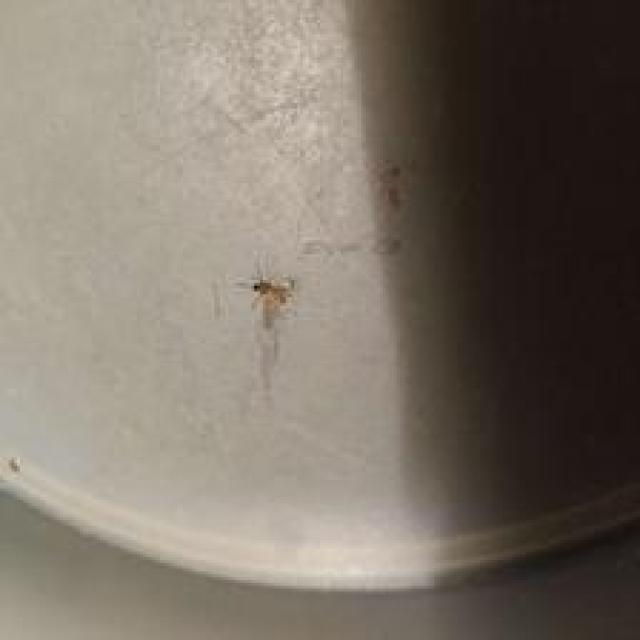Culex: (234, 263, 297, 408)
